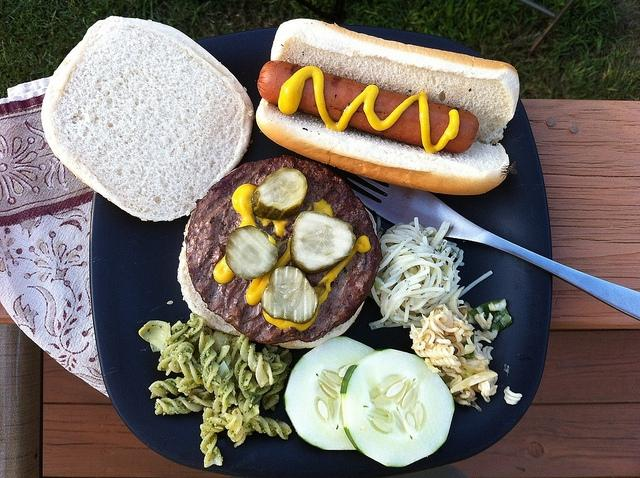cucumber: (340, 348, 455, 467), (284, 336, 376, 451)
